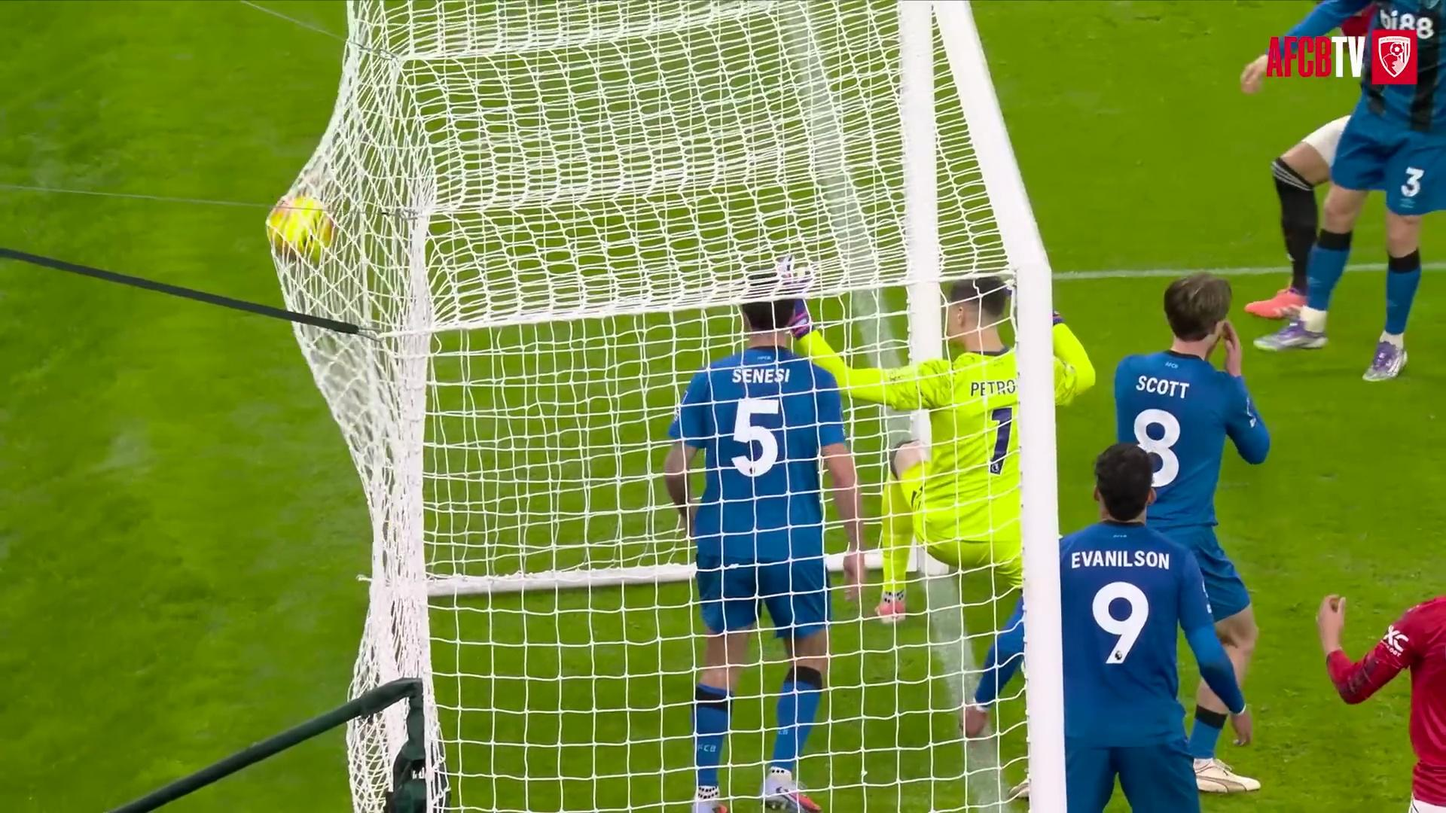football: (252, 188, 351, 277)
player: (664, 299, 862, 812), (794, 276, 1021, 620), (1255, 0, 1445, 380), (1060, 443, 1251, 812), (1115, 273, 1270, 682), (1317, 595, 1445, 812), (1341, 5, 1373, 35)
